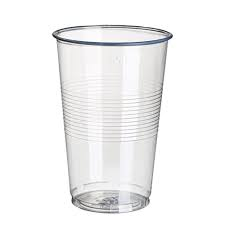glass: (49, 22, 178, 216)
